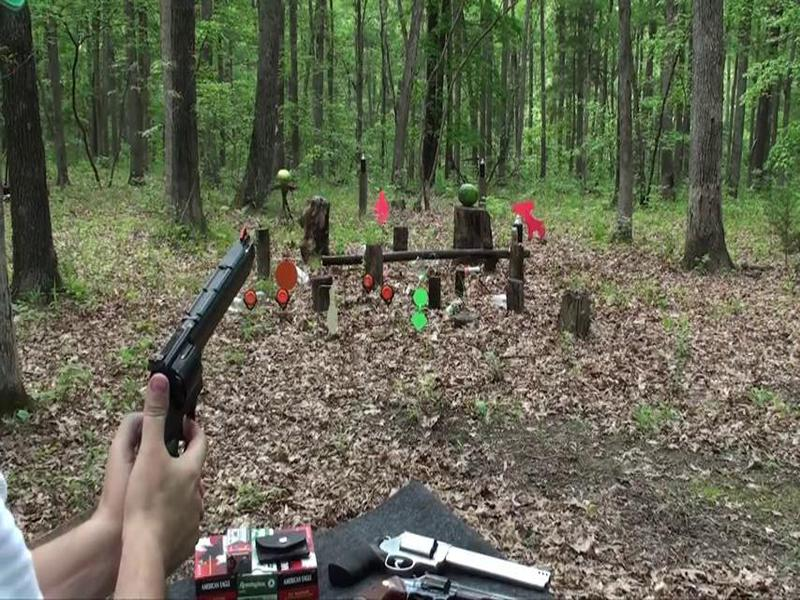Revolver: (126, 214, 266, 461)
